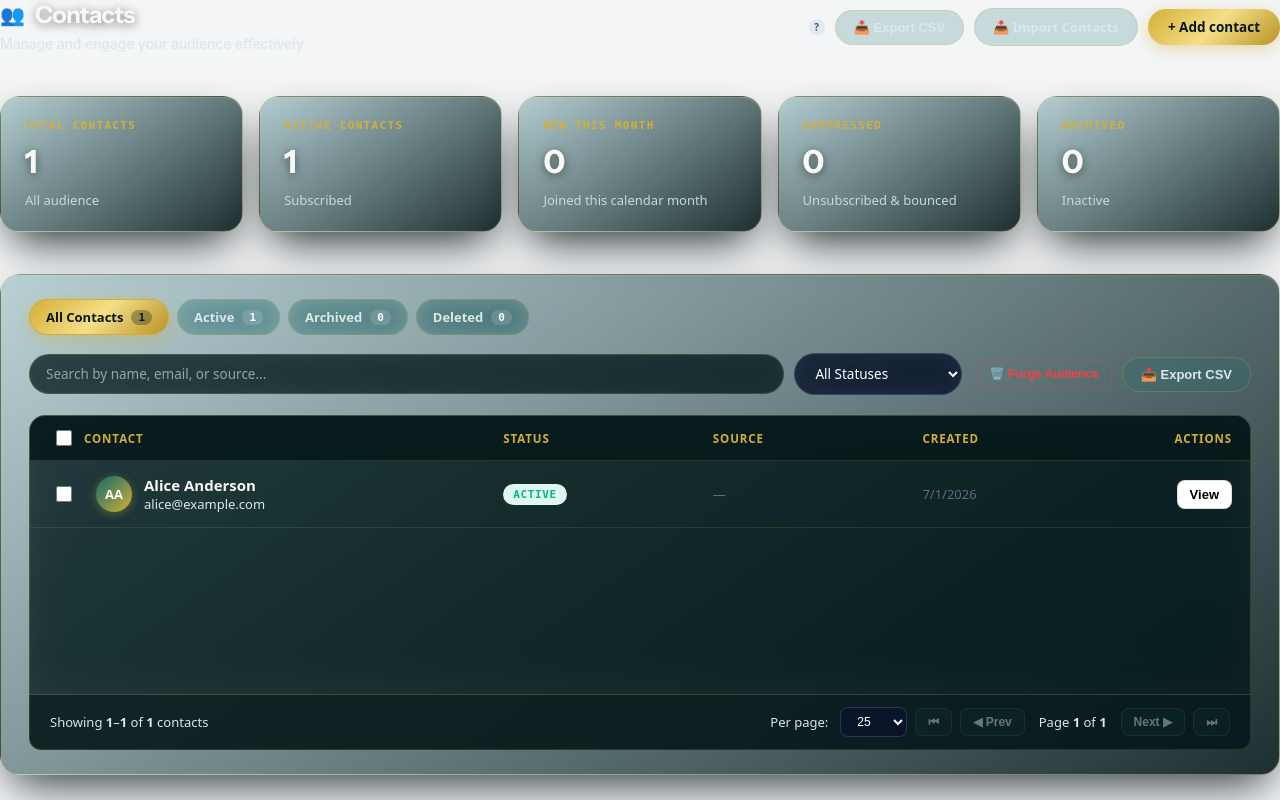
Test: ContactsPage › records new consent via the inline form
The image size is (1280, 800).
Expected: the text "Alice Anderson" is shown, [144,475,265,495]
Click the button "View" at (1204, 494), box [1177,480,1232,509]
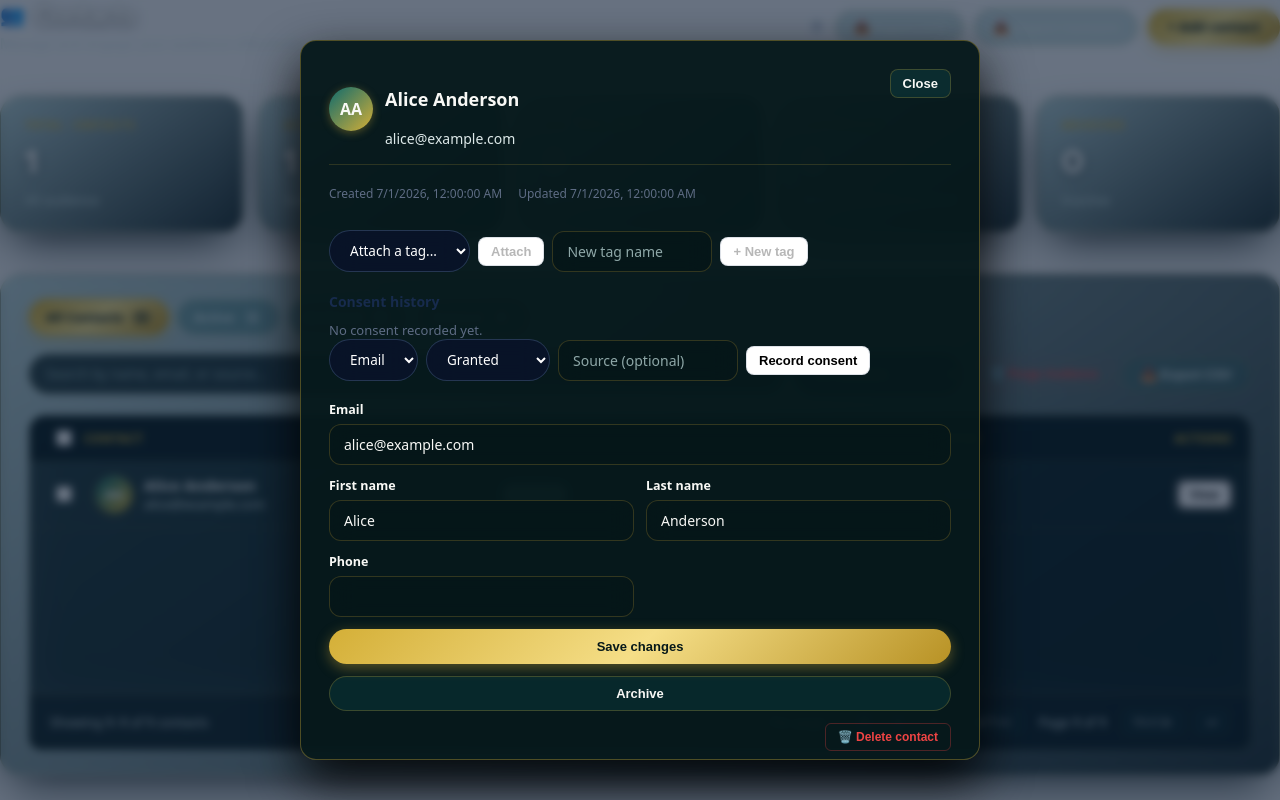
Expected: the text "No consent recorded yet." is shown, [329,321,482,339]
Select "SMS" in the dropdown named "Consent channel" at (374, 360), box [329,339,418,381]
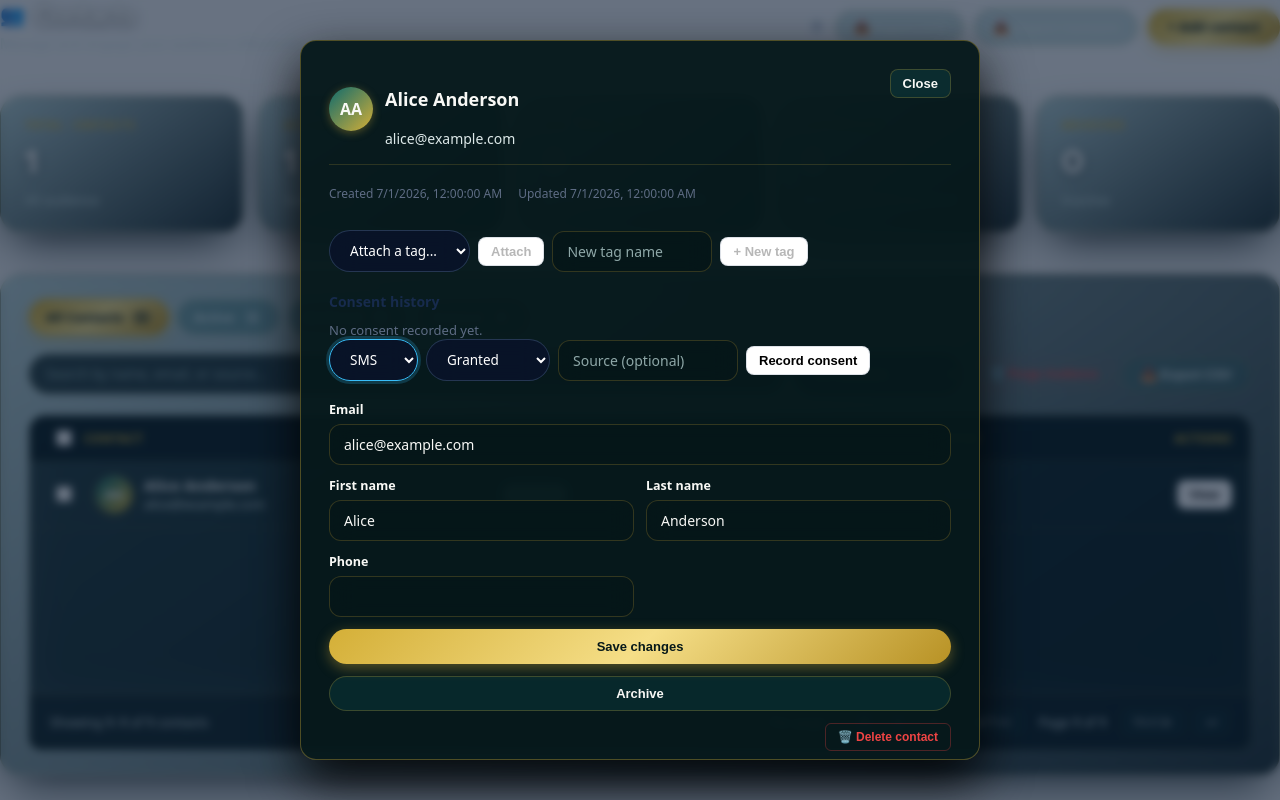
Select "Withdrawn" in the dropdown named "Consent status" at (488, 360), box [426,339,550,381]
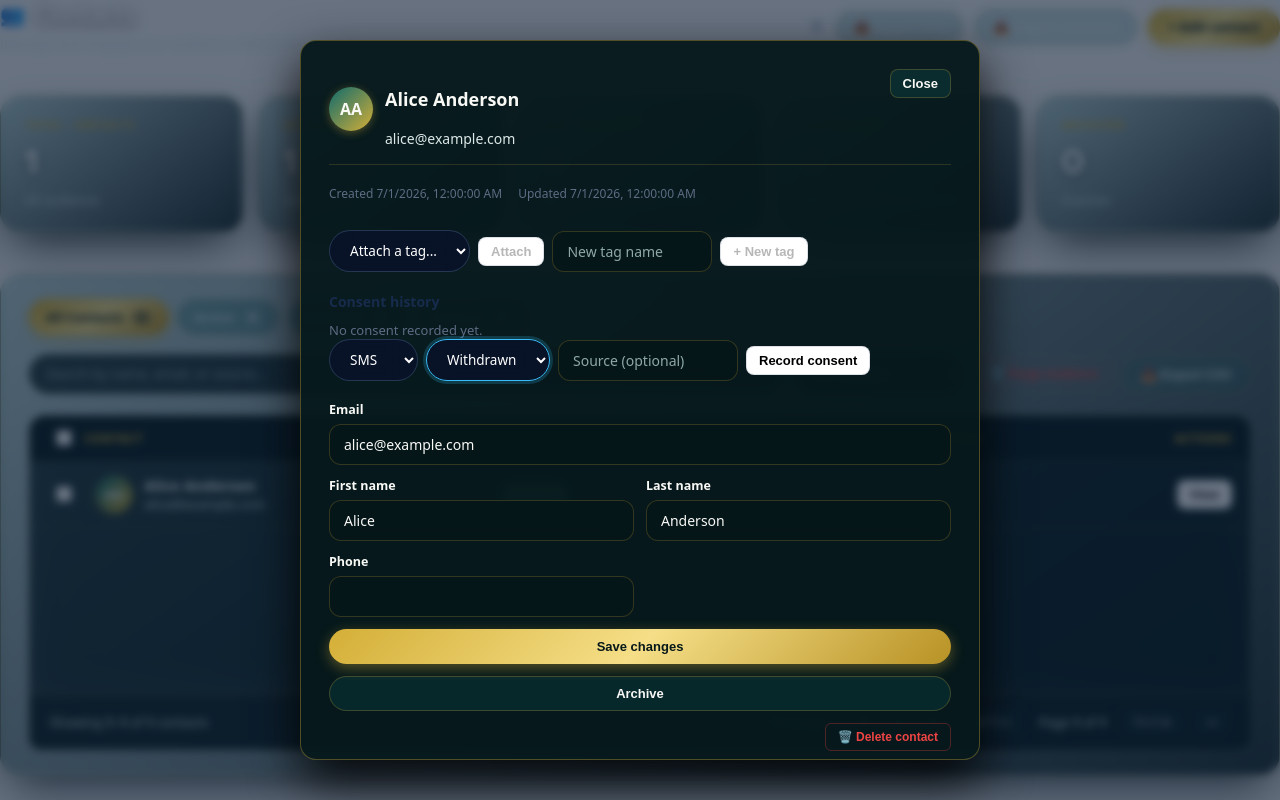
Click the button "Record consent" at (808, 360), box [746,346,870,374]
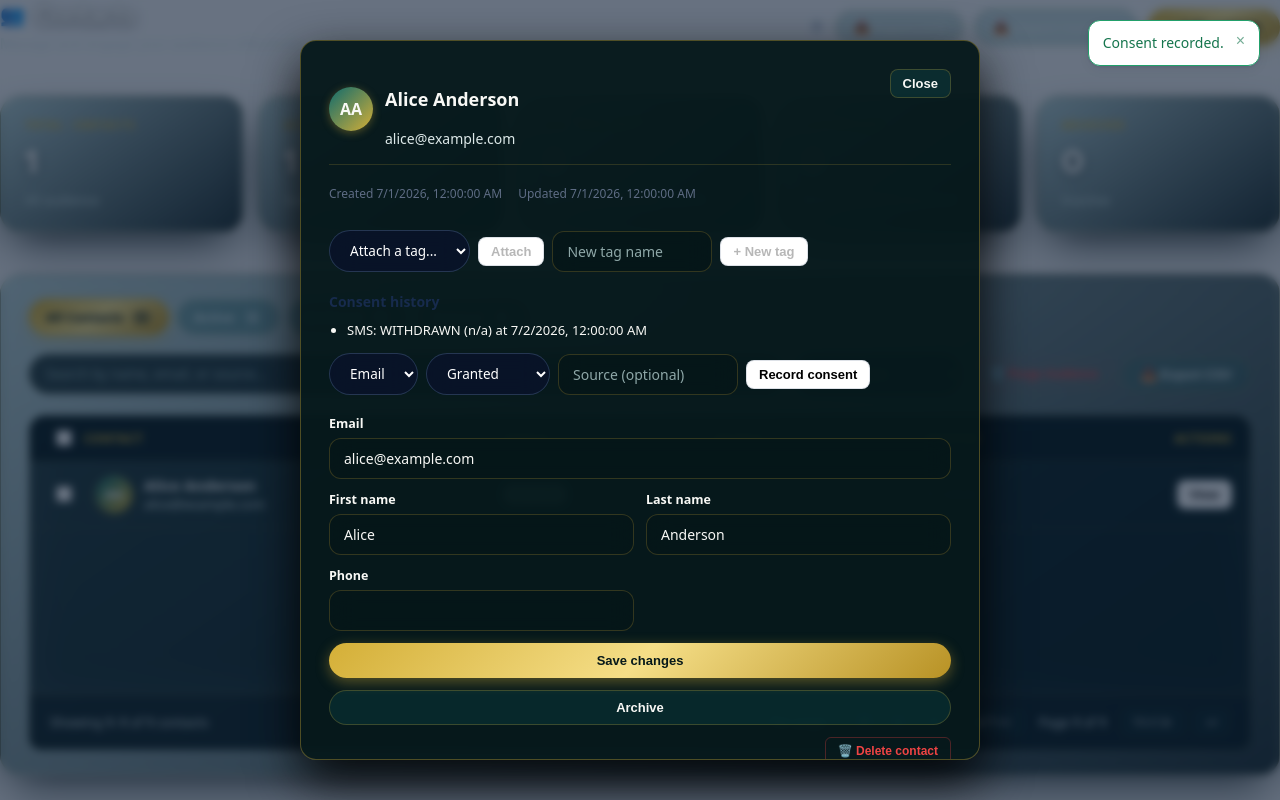
Expected: the list item "SMS: WITHDRAWN (n/a) at 7/2/2026, 12:00:00 AM" is shown, [347,321,647,339]
